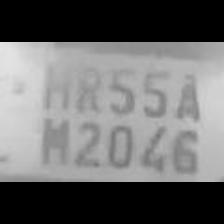0: (102, 119, 134, 169)
2: (69, 115, 100, 169)
4: (134, 119, 168, 173)
5: (100, 63, 138, 115), (136, 65, 170, 117)
6: (166, 120, 202, 177)
A: (170, 68, 204, 120)
H: (32, 57, 68, 113)
R: (70, 63, 103, 113)
